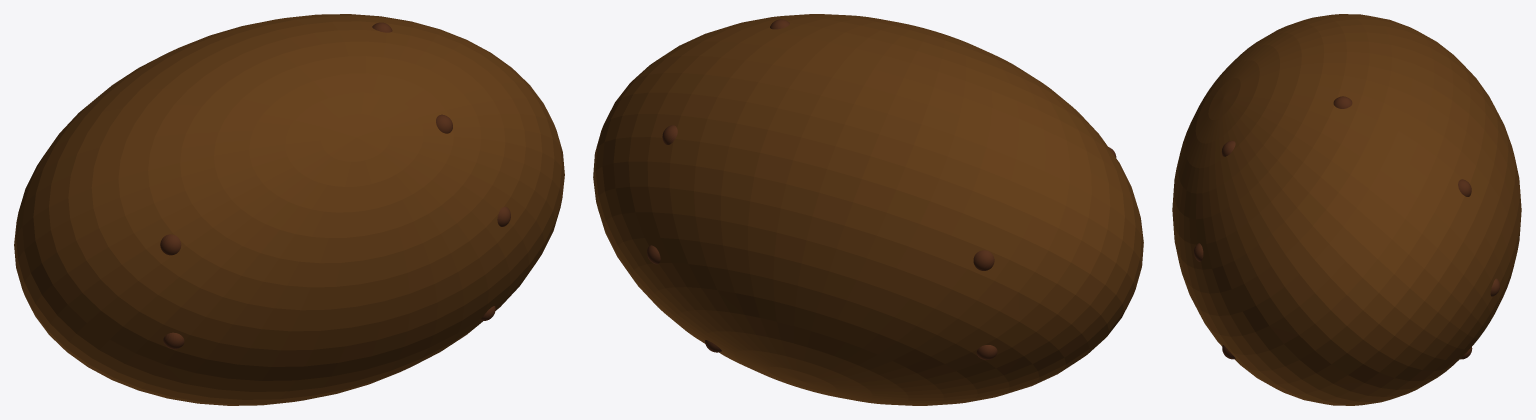
Rendered from tinker.obj.
The picture shows the model from 3 angles, left to right: view 1: azimuth 30°, elevation 25°; view 2: azimuth 150°, elevation 25°; view 3: azimuth 270°, elevation 25°; orthographic projection. The views are drawn at different scales.
Visible parts, largest first — view 1: obj_6; view 2: obj_6; view 3: obj_6.
Boxes of the visible parts, x1,y1,x2,y2 form: obj_6: (14,14,564,405); obj_6: (593,14,1143,405); obj_6: (1172,14,1521,405).
Bounding box in the file's own units: 22 × 14 × 14.
